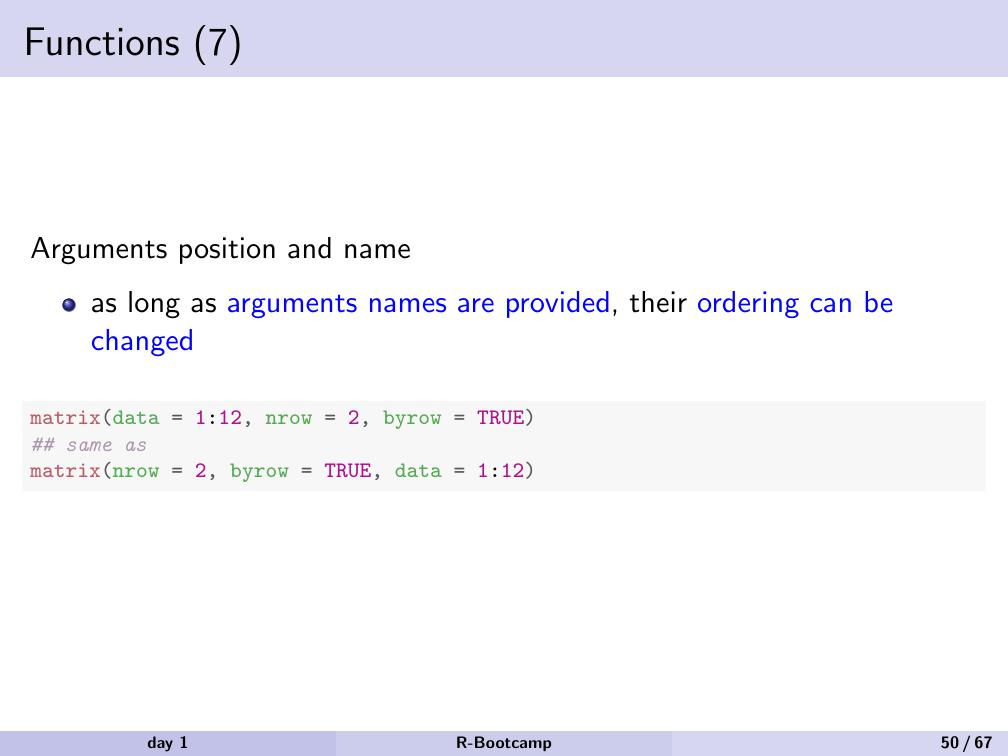Title: (15, 14, 251, 73)
